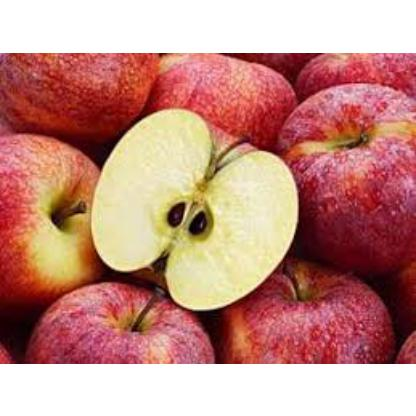apple: (270, 82, 414, 250), (223, 259, 390, 361), (0, 134, 106, 288), (147, 56, 301, 154), (26, 280, 206, 362), (2, 52, 144, 124)
damaged_apple: (92, 110, 298, 302)
